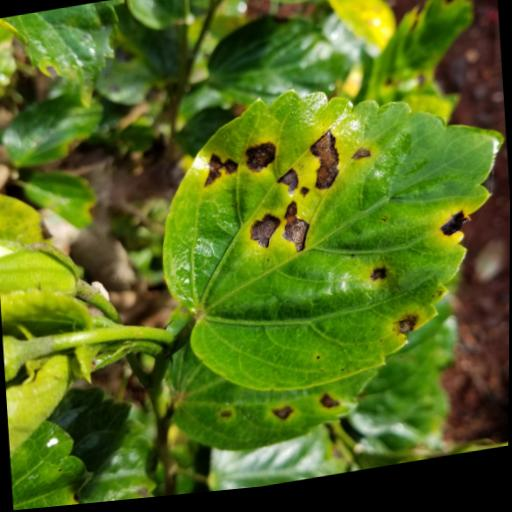Bacterial Spot: (151, 57, 507, 410)
